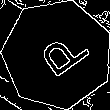P_SW: (26, 25, 89, 84)
